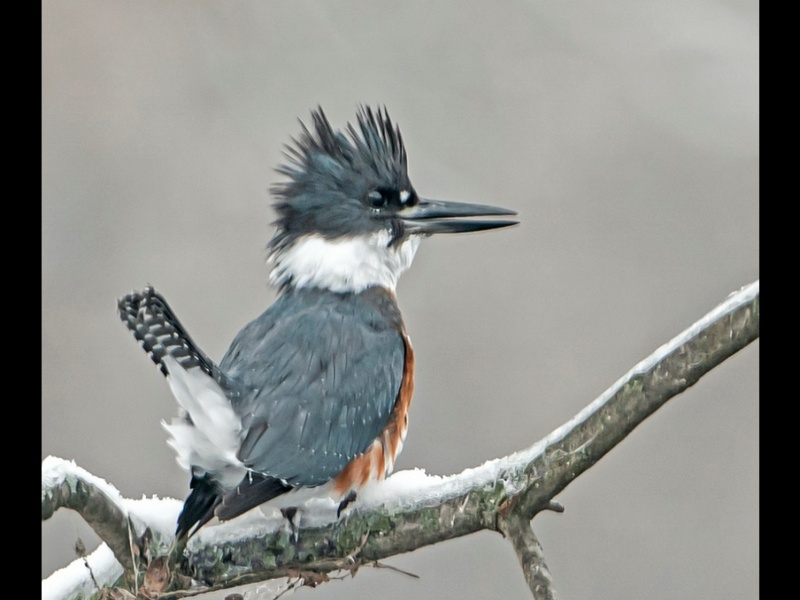kingfisher: (121, 101, 519, 585)
